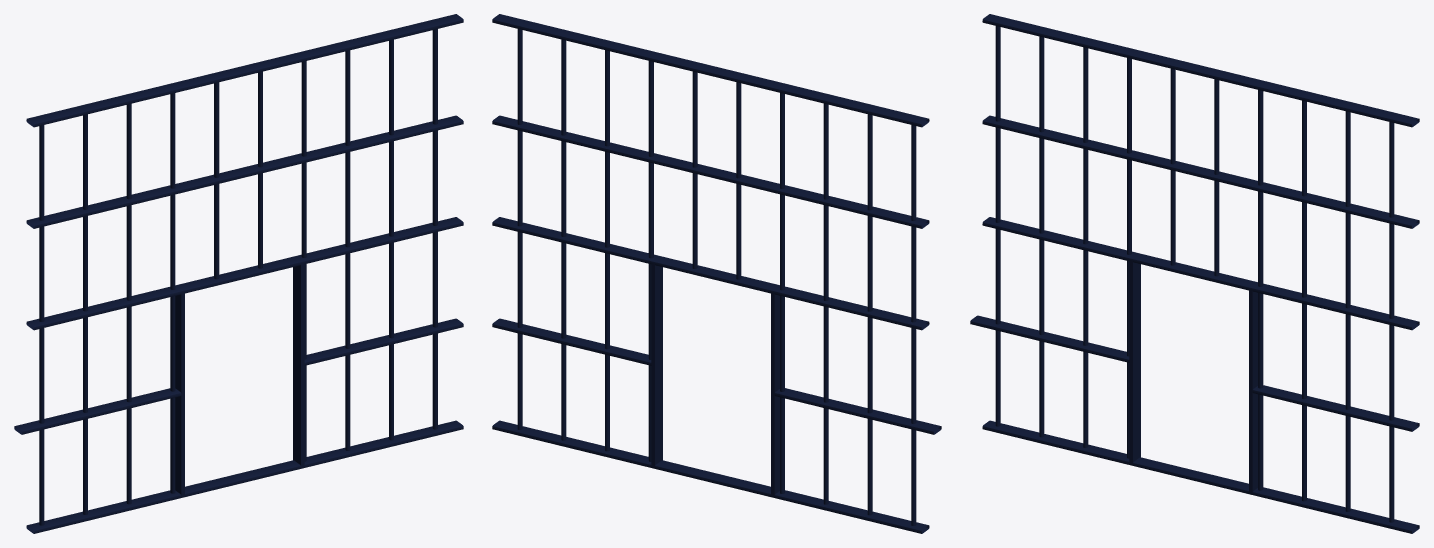
Rendered from Jail_Door_Wall.fbx.
The picture shows the model from 3 angles, left to right: view 1: azimuth 30°, elevation 25°; view 2: azimuth 150°, elevation 25°; view 3: azimuth 330°, elevation 25°; orthographic projection.
Parts seen in each view (by area): view 1: Jail_Wall_With_door; view 2: Jail_Wall_With_door; view 3: Jail_Wall_With_door.
Part boxes in pixels (x1,y1,x2,y2): Jail_Wall_With_door: [14, 14, 463, 533]; Jail_Wall_With_door: [492, 14, 941, 533]; Jail_Wall_With_door: [970, 14, 1419, 533].
Size of the model in its own units: 538 by 478 by 16.79.
